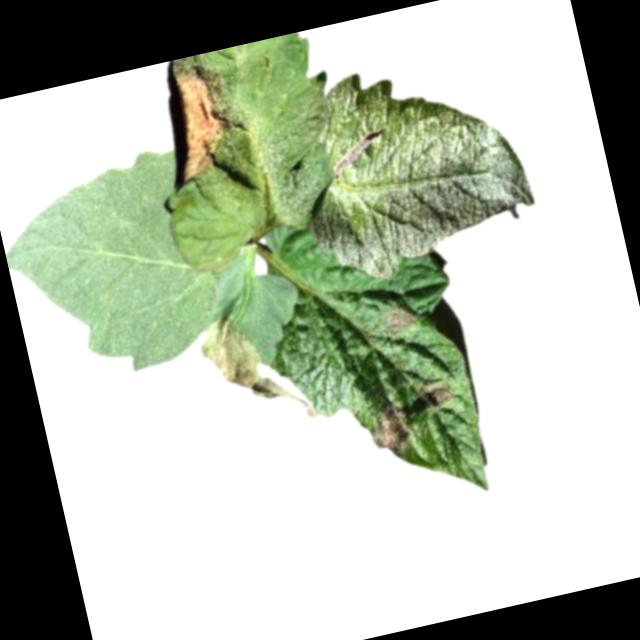Late_blight: (153, 58, 241, 190), (194, 308, 292, 420), (369, 404, 412, 461), (375, 307, 416, 339), (420, 382, 454, 410)
healthy: (282, 41, 544, 291), (1, 143, 225, 393)
